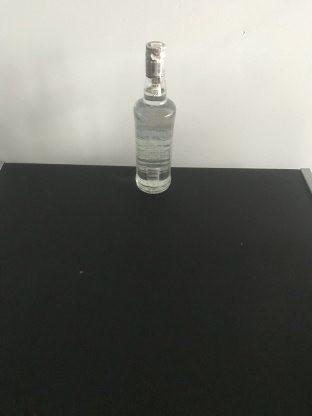nakretka: (143, 38, 167, 79)
